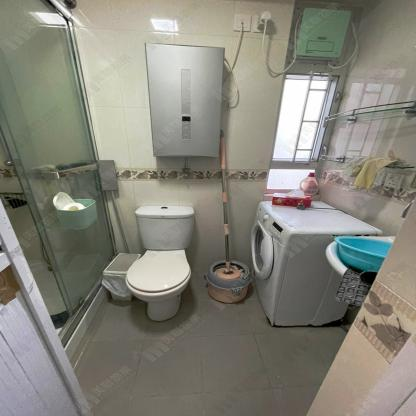Thermo Ventilator: (294, 7, 352, 59)
Toilet: (124, 205, 195, 321)
Washing Machine: (251, 199, 384, 326)
Water Heater: (145, 43, 223, 158)
